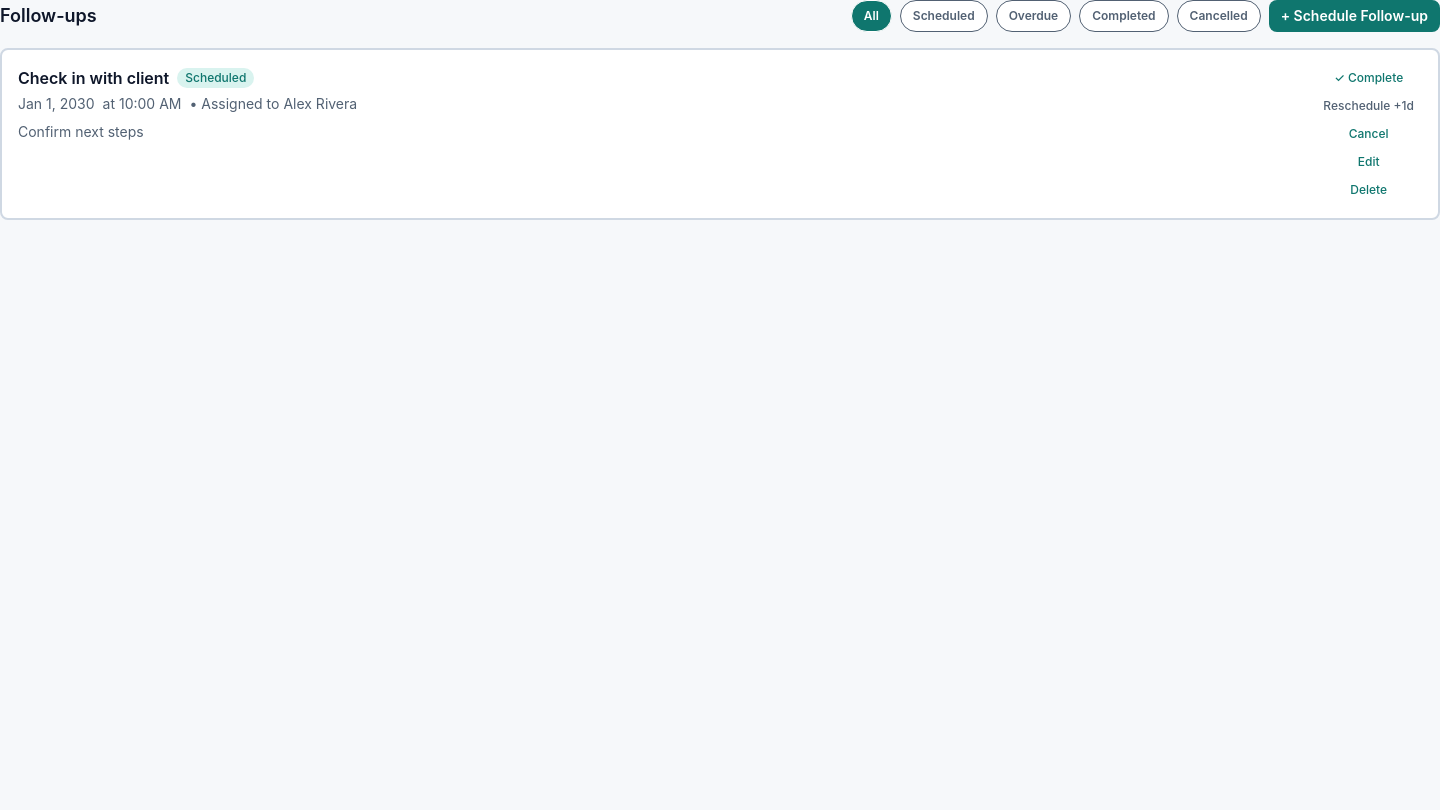
FollowUpList › keeps the contact follow-up toggle, form, and card hooks stable
Expected: the element with test id "contact-followup-card" is shown, [0, 48, 1439, 220]
Click the button with test id "contact-followup-toggle" at (1354, 16), box [1269, 0, 1439, 32]
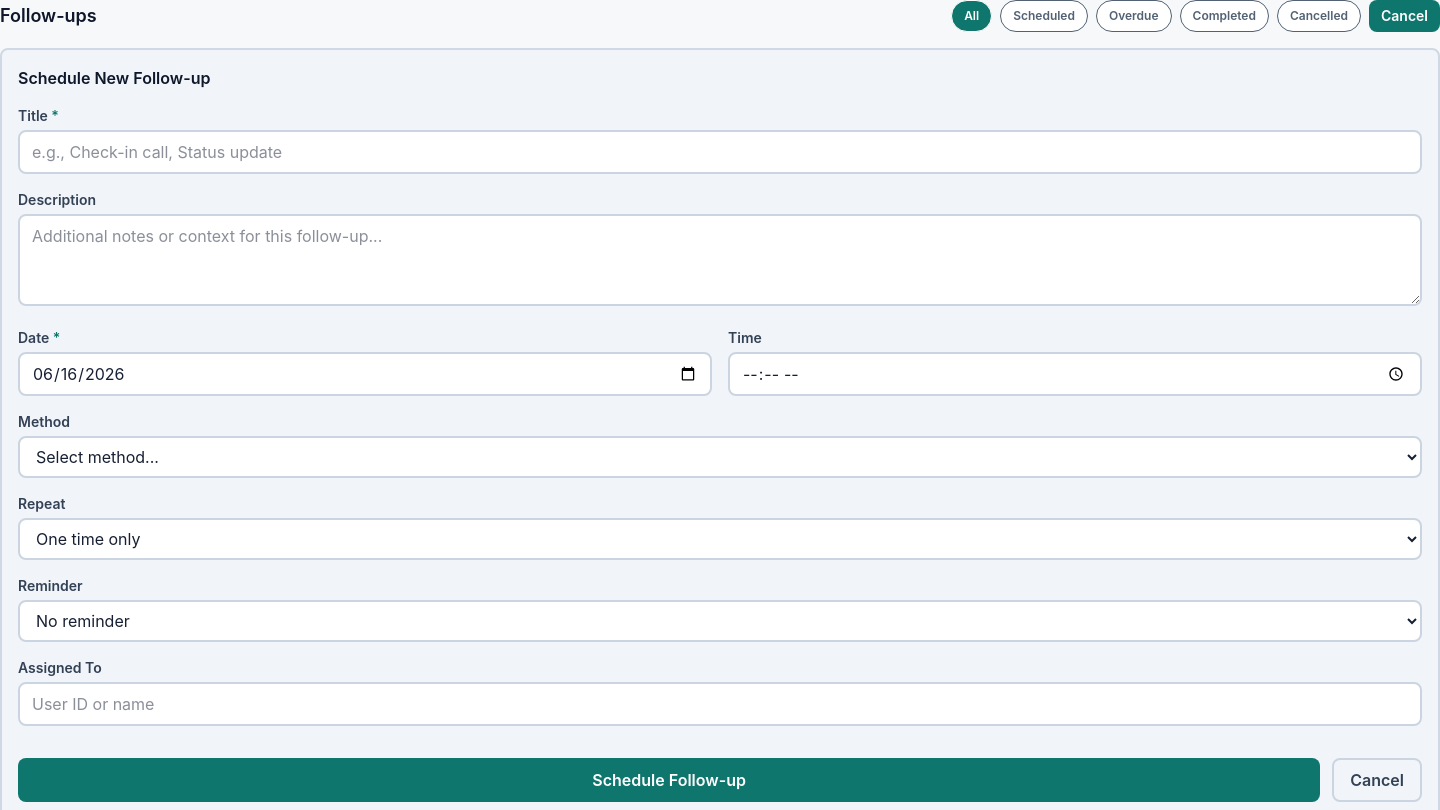
Now the form with test id "contact-followup-form" is shown
Click the button with test id "contact-followup-toggle" at (1404, 16), box [1369, 0, 1439, 32]
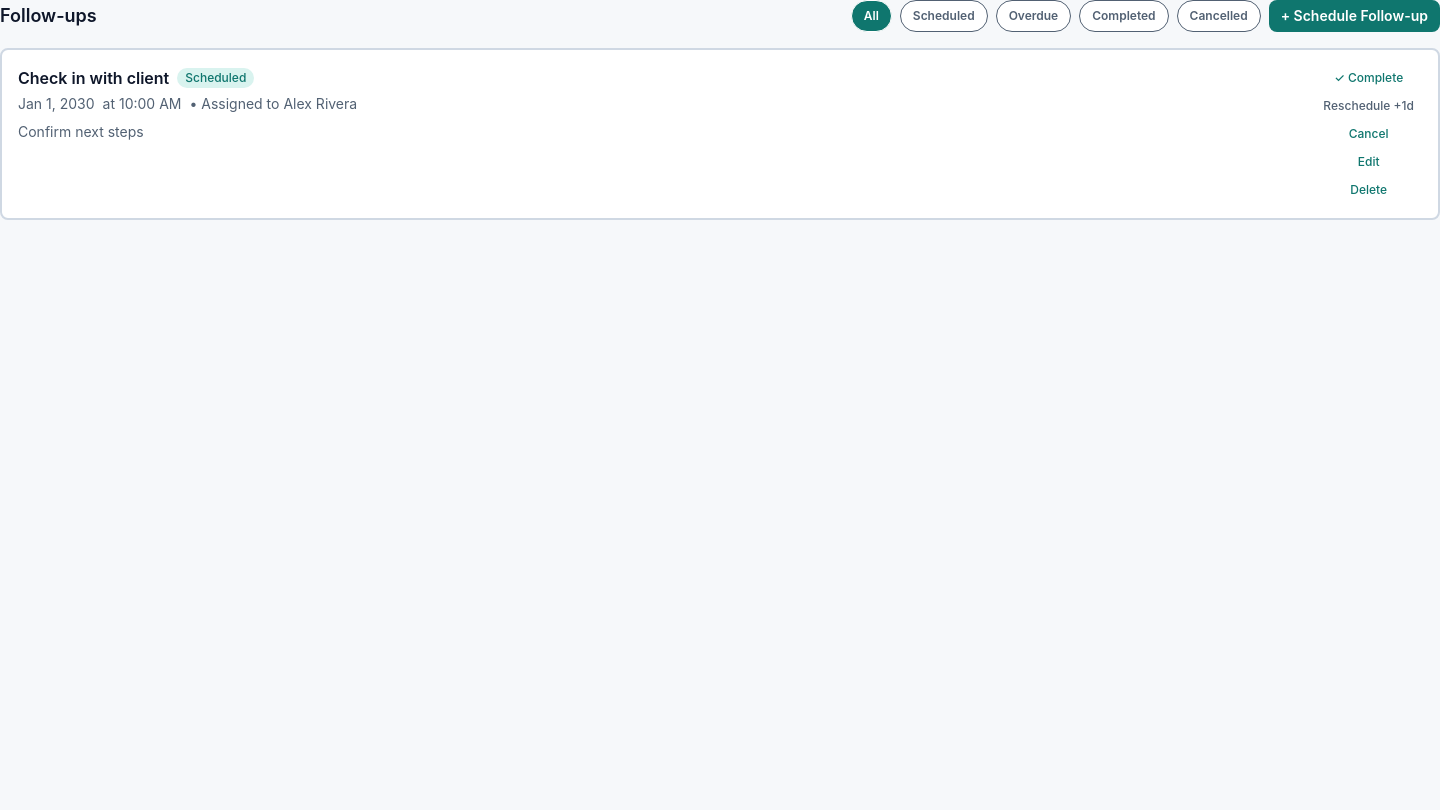
Now the form with test id "contact-followup-form" is gone
